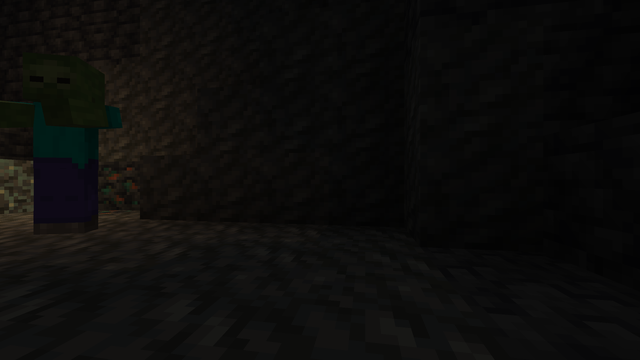zombies: (14, 54, 112, 238)
